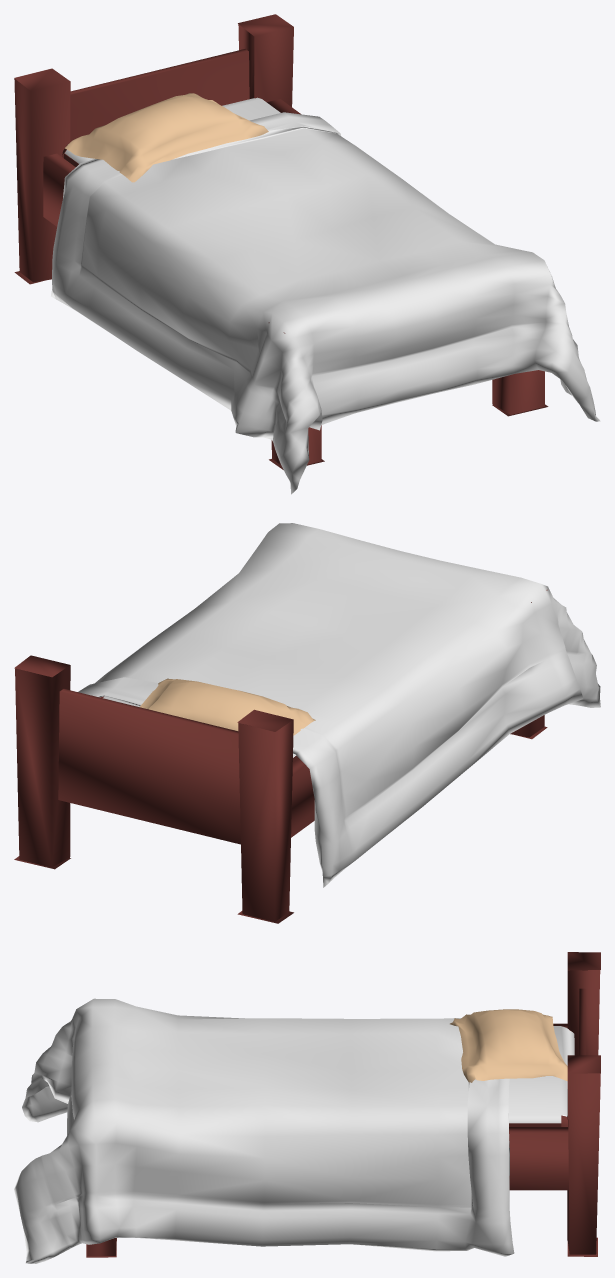
The model's file is bed_single_matress_1.glb.
3 renders of one model, top to bottom at view 1: azimuth 30°, elevation 25°; view 2: azimuth 150°, elevation 25°; view 3: azimuth 270°, elevation 25°, orthographic. The views are drawn at different scales.
Parts seen in each view (by area): view 1: Bed_Single_Blanket_low, Bed_Single_low, Bed_Single_Pillow02_low; view 2: Bed_Single_Blanket_low, Bed_Single_low, Bed_Single_Pillow02_low; view 3: Bed_Single_Blanket_low, Bed_Single_low, Bed_Single_Pillow02_low.
Part boxes in pixels (bbox=[...]): Bed_Single_Blanket_low: bbox=[51, 112, 600, 494]; Bed_Single_low: bbox=[14, 14, 548, 469]; Bed_Single_Pillow02_low: bbox=[65, 93, 268, 182]; Bed_Single_Blanket_low: bbox=[78, 523, 600, 887]; Bed_Single_low: bbox=[14, 589, 547, 923]; Bed_Single_Pillow02_low: bbox=[139, 678, 315, 735]; Bed_Single_Blanket_low: bbox=[14, 998, 514, 1263]; Bed_Single_low: bbox=[86, 952, 600, 1257]; Bed_Single_Pillow02_low: bbox=[450, 1009, 567, 1082].
Size of the model in its own units: 1.72 by 0.9364 by 2.69.
